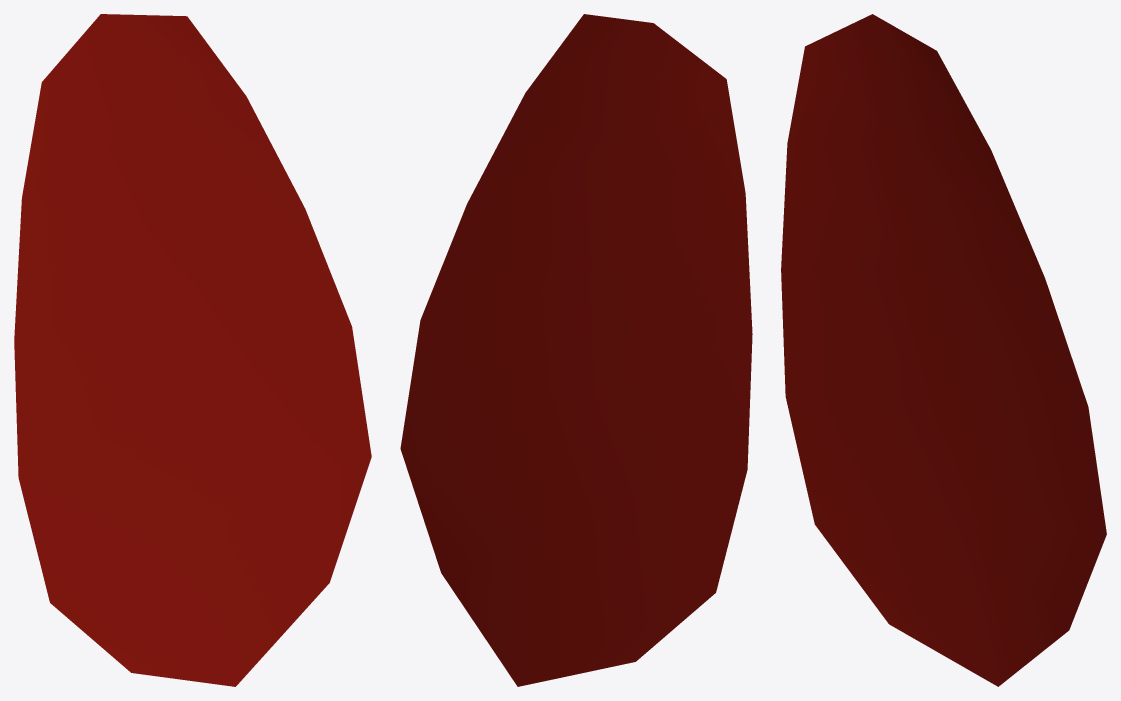
Rendered from ara_feather_flight_tertiary_050.obj.
The picture shows the model from 3 angles, left to right: view 1: azimuth 30°, elevation 25°; view 2: azimuth 150°, elevation 25°; view 3: azimuth 330°, elevation 25°; orthographic projection. The views are drawn at different scales.
Visible parts, largest first — view 1: feather_flight_tertiary_050; view 2: feather_flight_tertiary_050; view 3: feather_flight_tertiary_050.
Boxes of the visible parts, x1=… form: feather_flight_tertiary_050: x1=14, y1=14, x2=371, y2=686; feather_flight_tertiary_050: x1=400, y1=14, x2=752, y2=686; feather_flight_tertiary_050: x1=781, y1=14, x2=1106, y2=686.
Size of the model in its own units: 0.0192 by 0.0363 by 0.000879.
